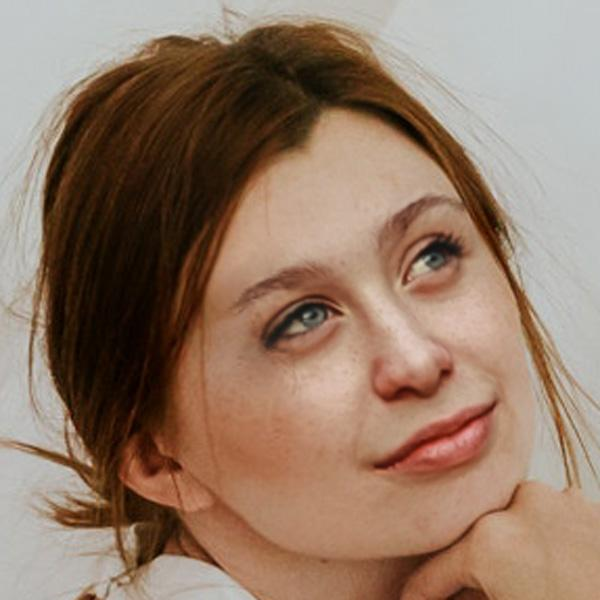Eyes: (258, 284, 352, 355), (393, 225, 473, 294)
